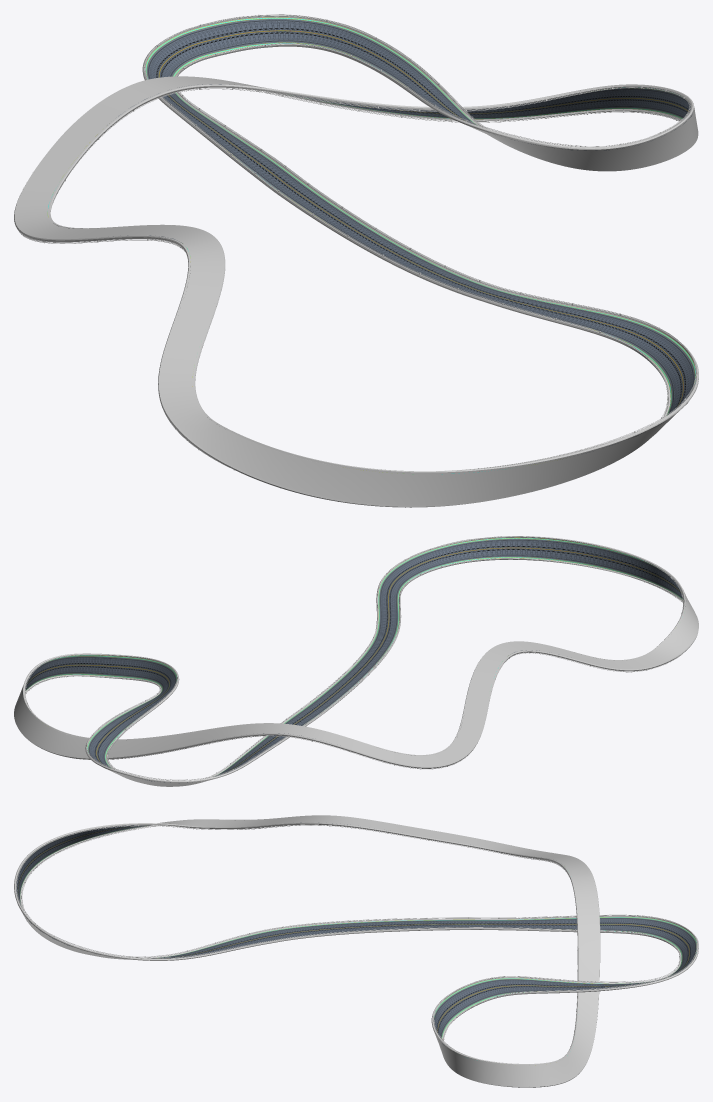
Rendered from Track_SuperSmooth.fbx.
3 renders of one model, top to bottom at view 1: azimuth 30°, elevation 25°; view 2: azimuth 150°, elevation 25°; view 3: azimuth 270°, elevation 25°, orthographic. The views are drawn at different scales.
Parts seen in each view (by area): view 1: polySurface6, Track_Surface, Barrier, Rail, Rail_Support; view 2: Track_Surface, polySurface6, Barrier, Rail, Rail_Support; view 3: polySurface6, Track_Surface, Barrier, Rail.
Part boxes in pixels (x1,y1,x2,y2): polySurface6: (16, 76, 698, 505); Track_Surface: (47, 17, 696, 474); Barrier: (14, 15, 698, 507); Rail: (19, 14, 696, 471); Rail_Support: (14, 14, 697, 507); Track_Surface: (22, 537, 685, 783); polySurface6: (14, 590, 698, 786); Barrier: (14, 536, 698, 786); Rail: (25, 536, 685, 780); Rail_Support: (14, 537, 698, 782); polySurface6: (18, 815, 598, 1085); Track_Surface: (16, 822, 696, 1065); Barrier: (14, 815, 698, 1087); Rail: (16, 824, 697, 1058).
Bounding box in the file's own units: 529 × 96.41 × 658.
